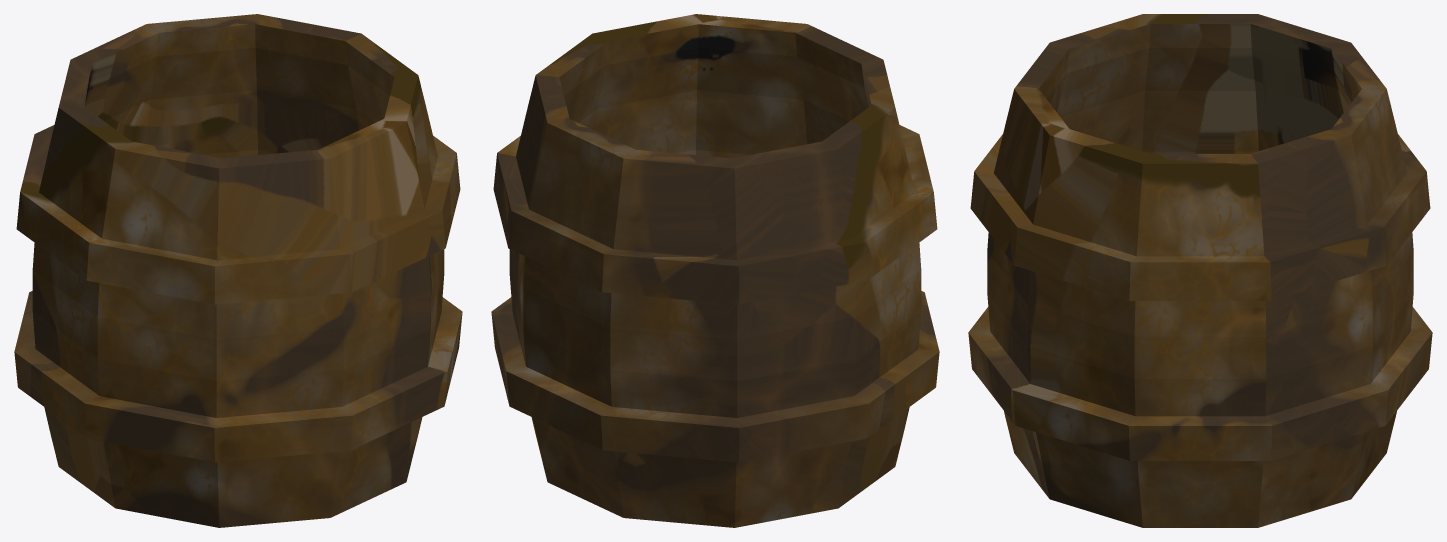
File: BrokenBarrel1.FBX
3 renders of one model, left to right at view 1: azimuth 30°, elevation 25°; view 2: azimuth 150°, elevation 25°; view 3: azimuth 270°, elevation 25°, orthographic.
Parts seen in each view (by area): view 1: Barrel1_LP_Part_1_Part_2_Part_2, Barrel1_LP_Part_1_Part_1_Part_2, Barrel1_LP_Part_1_Part_2_Part_1, Barrel1_LP_Part_1_Part_1_Part_1, Barrel1_LP_Part_2_Part_1_Part_2_Part_1, Barrel1_LP_Part_2_Part_1_Part_2_Part_2, Barrel1_LP_Part_2_Part_2_Part_1, Barrel1_LP_Part_2_Part_2_Part_2_Part_1; view 2: Barrel1_LP_Part_2_Part_1_Part_2_Part_2, Barrel1_LP_Part_1_Part_2_Part_2, Barrel1_LP_Part_2_Part_1_Part_2_Part_1, Barrel1_LP_Part_1_Part_1_Part_2, Barrel1_LP_Part_1_Part_2_Part_1, Barrel1_LP_Part_2_Part_2_Part_1, Barrel1_LP_Part_2_Part_1_Part_1, Barrel1_LP_Part_1_Part_1_Part_1, Barrel1_LP_Part_2_Part_2_Part_2_Part_1, Barrel1_LP_Part_2_Part_2_Part_2_Part_2; view 3: Barrel1_LP_Part_2_Part_2_Part_2_Part_1, Barrel1_LP_Part_2_Part_1_Part_2_Part_1, Barrel1_LP_Part_1_Part_2_Part_2, Barrel1_LP_Part_1_Part_1_Part_1, Barrel1_LP_Part_2_Part_2_Part_1, Barrel1_LP_Part_2_Part_2_Part_2_Part_2, Barrel1_LP_Part_1_Part_1_Part_2, Barrel1_LP_Part_2_Part_1_Part_2_Part_2, Barrel1_LP_Part_1_Part_2_Part_1, Barrel1_LP_Part_2_Part_1_Part_1.
Part boxes in pixels (x1,y1,x2,y2): Barrel1_LP_Part_1_Part_2_Part_2: [14, 88, 236, 418]; Barrel1_LP_Part_1_Part_1_Part_2: [148, 119, 428, 377]; Barrel1_LP_Part_1_Part_2_Part_1: [44, 328, 422, 527]; Barrel1_LP_Part_1_Part_1_Part_1: [281, 184, 455, 451]; Barrel1_LP_Part_2_Part_1_Part_2_Part_1: [184, 14, 386, 158]; Barrel1_LP_Part_2_Part_1_Part_2_Part_2: [28, 19, 205, 295]; Barrel1_LP_Part_2_Part_2_Part_1: [371, 52, 456, 268]; Barrel1_LP_Part_2_Part_2_Part_2_Part_1: [349, 52, 462, 367]; Barrel1_LP_Part_2_Part_1_Part_2_Part_2: [565, 134, 796, 480]; Barrel1_LP_Part_1_Part_2_Part_2: [736, 92, 939, 462]; Barrel1_LP_Part_2_Part_1_Part_2_Part_1: [497, 55, 602, 431]; Barrel1_LP_Part_1_Part_1_Part_2: [675, 14, 922, 151]; Barrel1_LP_Part_1_Part_2_Part_1: [697, 291, 937, 527]; Barrel1_LP_Part_2_Part_2_Part_1: [561, 14, 700, 151]; Barrel1_LP_Part_2_Part_1_Part_1: [502, 357, 715, 524]; Barrel1_LP_Part_1_Part_1_Part_1: [659, 100, 765, 158]; Barrel1_LP_Part_2_Part_2_Part_2_Part_1: [491, 56, 622, 355]; Barrel1_LP_Part_2_Part_2_Part_2_Part_2: [497, 340, 570, 492]; Barrel1_LP_Part_2_Part_2_Part_2_Part_1: [1073, 163, 1339, 486]; Barrel1_LP_Part_2_Part_1_Part_2_Part_1: [1190, 108, 1420, 403]; Barrel1_LP_Part_1_Part_2_Part_2: [1068, 14, 1316, 153]; Barrel1_LP_Part_1_Part_1_Part_1: [968, 215, 1107, 460]; Barrel1_LP_Part_2_Part_2_Part_1: [1045, 128, 1205, 323]; Barrel1_LP_Part_2_Part_2_Part_2_Part_2: [1117, 386, 1364, 527]; Barrel1_LP_Part_1_Part_1_Part_2: [970, 23, 1126, 250]; Barrel1_LP_Part_2_Part_1_Part_2_Part_2: [1280, 25, 1432, 374]; Barrel1_LP_Part_1_Part_2_Part_1: [985, 307, 1135, 525]; Barrel1_LP_Part_2_Part_1_Part_1: [1353, 369, 1428, 484].
Bounding box in the file's own units: 8.62 × 7.84 × 9.06.
